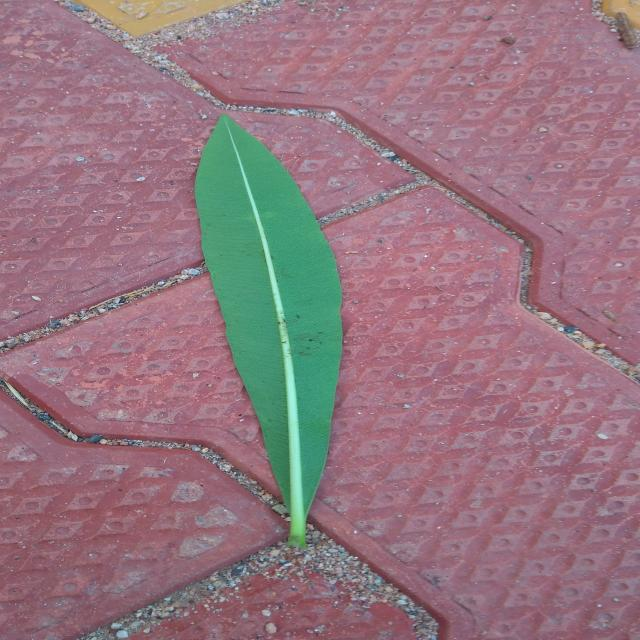ganigale: (196, 115, 342, 546)
